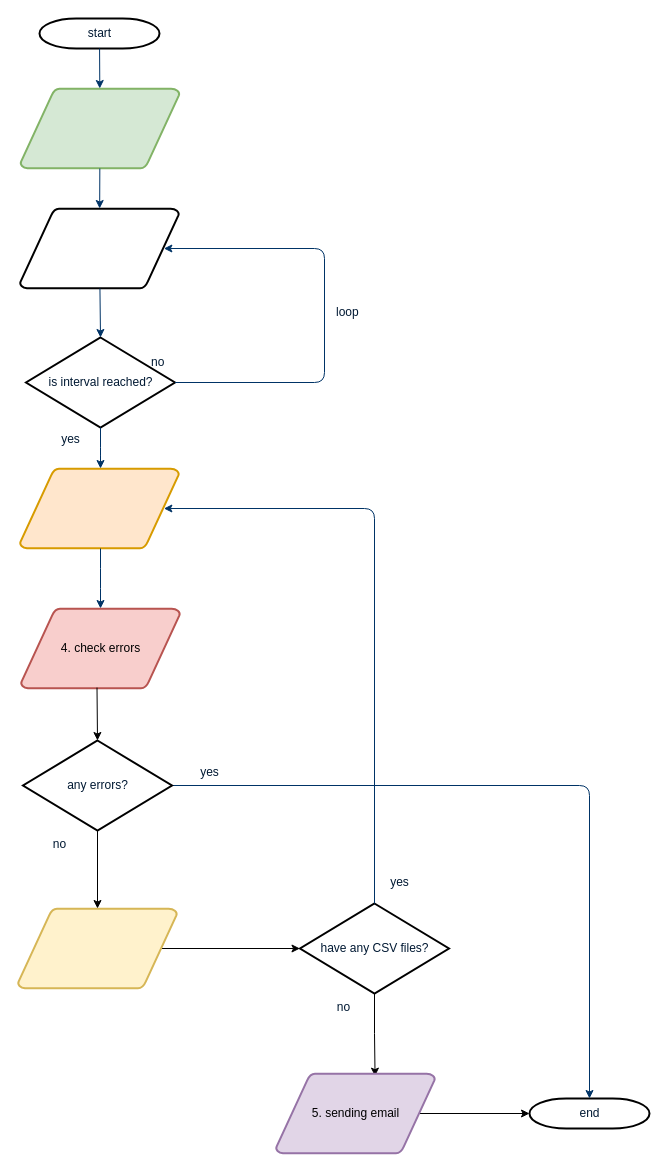
Some shapes in this 668 by 1171 pixel diagram are drawn without their labels. The box of each missing label's shape, as (x1, y1, x2, y2) in pixels:
1. start windows service: (19, 87, 180, 169)
2. check for interval: (18, 207, 180, 289)
3. process CSV file: (18, 467, 180, 549)
4.1 check for remaining CSV files: (16, 907, 178, 989)
